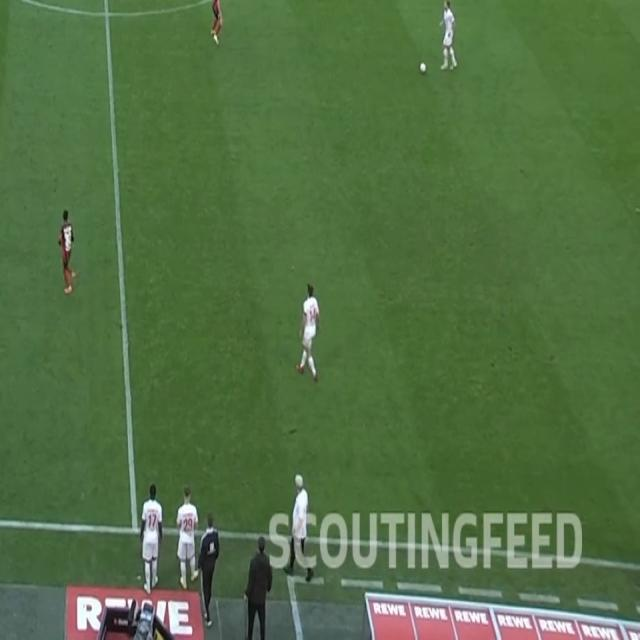ball: (420, 61, 427, 73)
